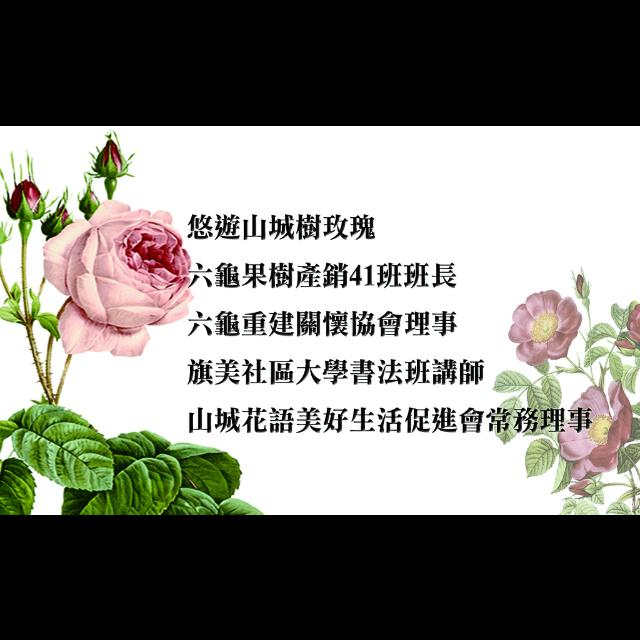Flower: (42, 195, 192, 358), (558, 377, 634, 477), (508, 287, 582, 367), (5, 178, 51, 216), (89, 136, 130, 174), (42, 208, 66, 232), (566, 477, 598, 495), (76, 188, 98, 214), (628, 298, 640, 342), (614, 336, 634, 350), (578, 274, 590, 296)
